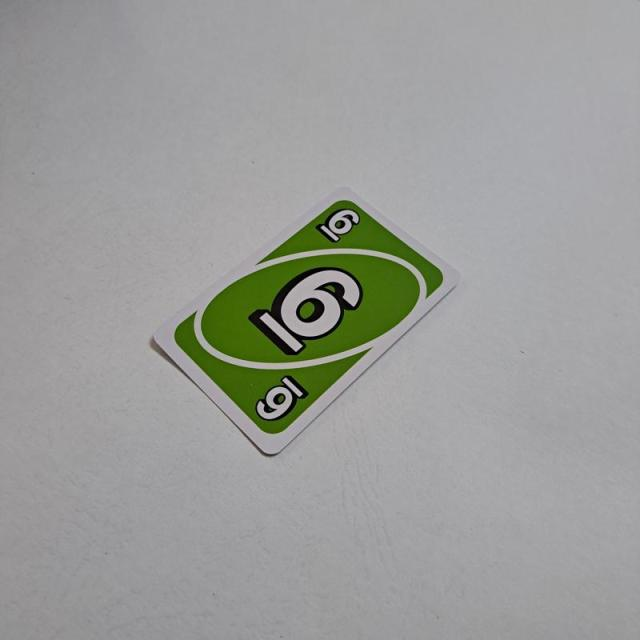Green_Card: (170, 193, 451, 440)
Number_6: (316, 202, 362, 244)
